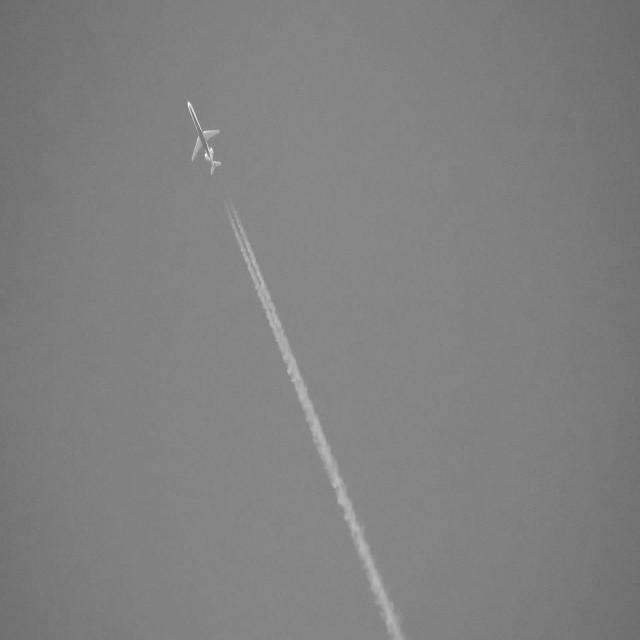aeroplane: (184, 94, 223, 176)
